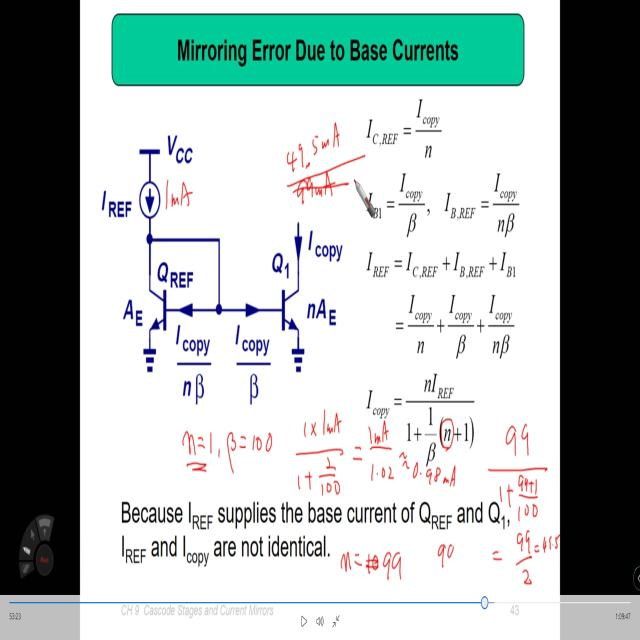panseo: (289, 402, 462, 519), (479, 395, 560, 595), (260, 118, 382, 212), (327, 533, 465, 592), (172, 418, 282, 485), (158, 171, 199, 219)
